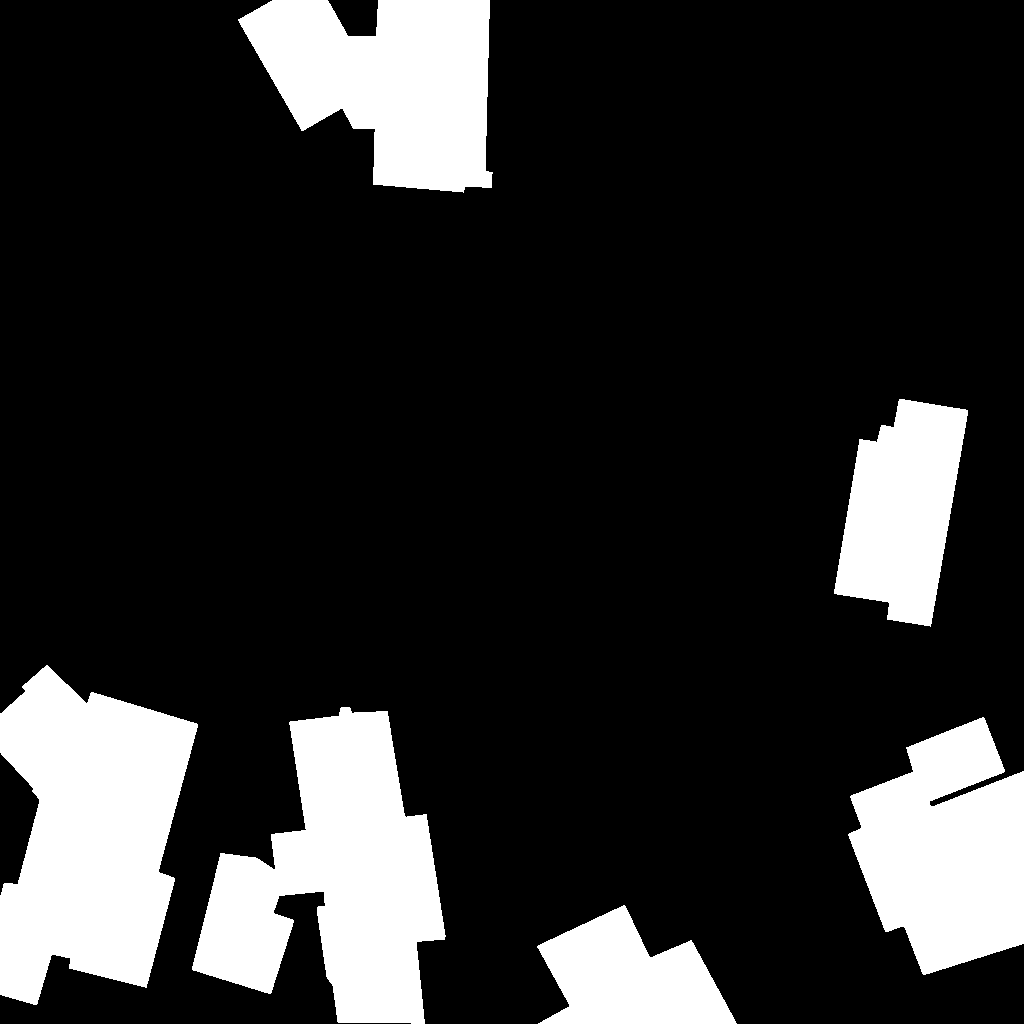building: (192, 707, 446, 1024), (0, 665, 199, 1006), (238, 0, 493, 193), (848, 717, 1024, 976), (834, 399, 969, 627), (537, 905, 738, 1024)
